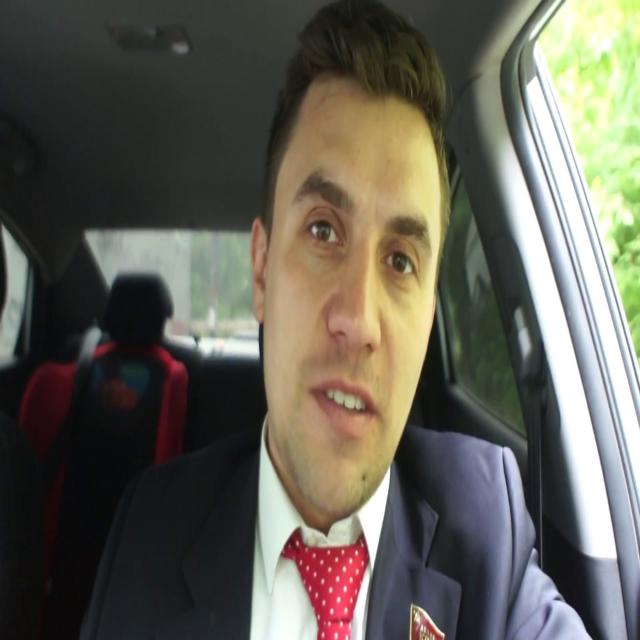earlobe: (251, 279, 267, 325)
eye: (380, 246, 419, 280), (307, 218, 343, 249)
nose: (329, 326, 380, 379)
wholeear: (249, 217, 267, 325)
